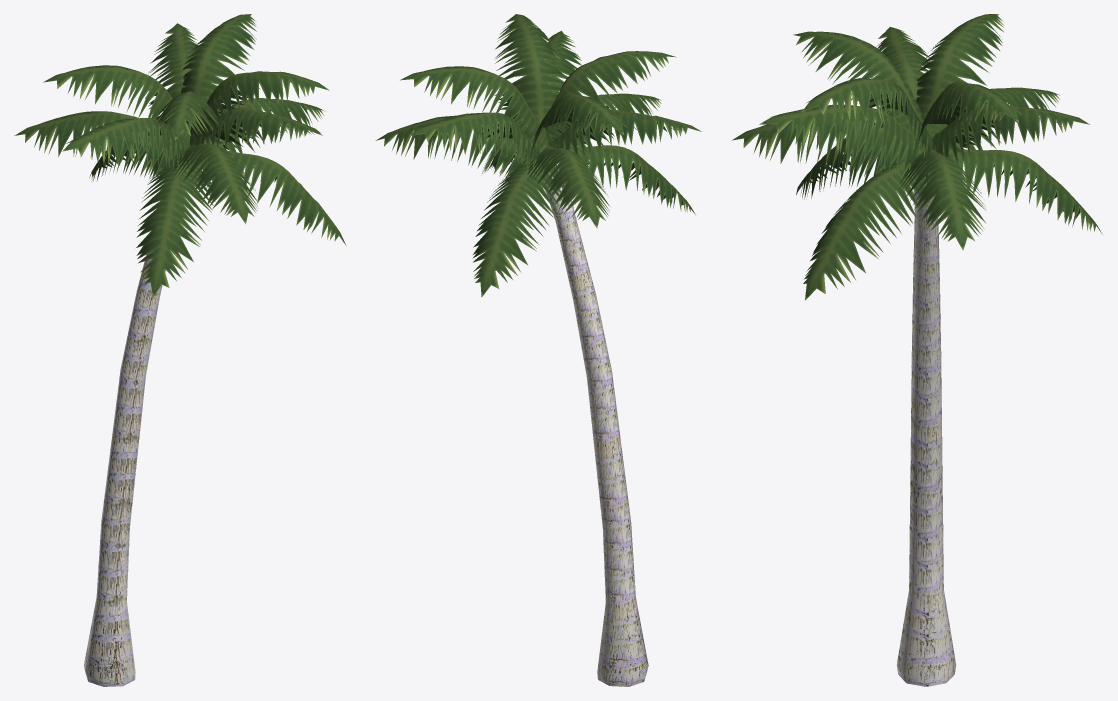
Rendered from tropical_palm.glb.
3 views of the same model, side by side, from view 1: azimuth 30°, elevation 25°; view 2: azimuth 150°, elevation 25°; view 3: azimuth 270°, elevation 25° (orthographic). The views are drawn at different scales.
Visible parts, largest first — view 1: palm_leaves_w; view 2: palm_leaves_w; view 3: palm_leaves_w.
Part boxes in pixels (x1=…): palm_leaves_w: x1=14, y1=14, x2=346, y2=686; palm_leaves_w: x1=375, y1=14, x2=701, y2=686; palm_leaves_w: x1=731, y1=14, x2=1102, y2=686.
Size of the model in its own units: 5.73 by 11 by 5.61.
2 materials, 2 textured.
